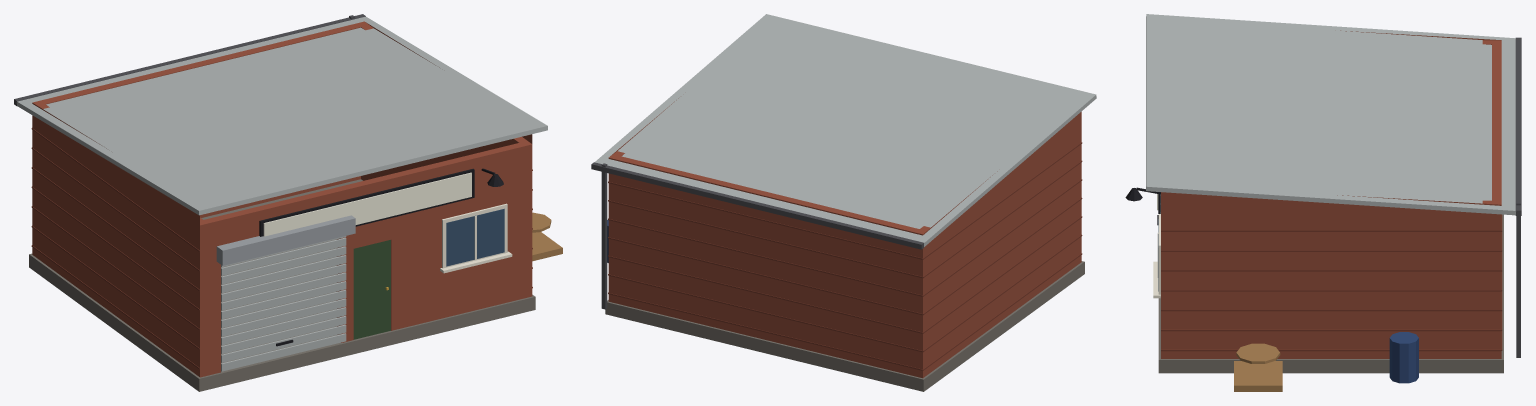
The model's file is depot.yard.glb.
The picture shows the model from 3 angles, left to right: view 1: azimuth 30°, elevation 25°; view 2: azimuth 150°, elevation 25°; view 3: azimuth 270°, elevation 25°; orthographic projection. The views are drawn at different scales.
Visible parts, largest first — view 1: roof, walls-side-1, pier-r, plinth, sign, pier-l, door, walls-back, roller-drum, window-glass, over-roller, over-door (+19 smaller); view 2: roof, walls-back, walls-side-1, plinth, gutter, downpipe, course-b0, course-b1, course-b2, course-b4, course-b5, course-b6 (+2 smaller); view 3: roof, walls-side1, plinth, walls-back, roof-end1, pier-r, oil-drum, pallet, gutter, course-s11, course-s01, reel-l (+6 smaller).
Boxes of the visible parts, <box> form: roof: <box>16,16,547,215</box>; walls-side-1: <box>37,104,203,373</box>; pier-r: <box>387,141,532,330</box>; plinth: <box>29,179,535,391</box>; sign: <box>263,172,471,236</box>; pier-l: <box>195,217,220,377</box>; door: <box>353,240,390,339</box>; walls-back: <box>32,21,368,257</box>; roller-drum: <box>216,215,355,265</box>; window-glass: <box>446,208,504,266</box>; over-roller: <box>215,187,347,245</box>; over-door: <box>349,175,391,248</box>; roof: <box>595,14,1096,246</box>; walls-back: <box>608,154,927,378</box>; walls-side-1: <box>920,122,1077,374</box>; plinth: <box>605,261,1084,391</box>; gutter: <box>591,162,923,249</box>; downpipe: <box>601,163,607,309</box>; course-b0: <box>608,293,922,370</box>; course-b1: <box>608,274,922,352</box>; course-b2: <box>608,256,922,333</box>; course-b4: <box>608,219,922,296</box>; course-b5: <box>608,200,922,278</box>; course-b6: <box>608,182,922,259</box>; roof: <box>1146,14,1515,215</box>; walls-side1: <box>1170,200,1491,358</box>; plinth: <box>1158,214,1503,373</box>; walls-back: <box>1492,40,1501,358</box>; roof-end1: <box>1161,192,1497,204</box>; pier-r: <box>1161,204,1170,358</box>; oil-drum: <box>1389,332,1418,383</box>; pallet: <box>1234,361,1282,391</box>; gutter: <box>1515,37,1521,215</box>; course-s11: <box>1161,329,1501,331</box>; course-s01: <box>1161,349,1501,351</box>; reel-l: <box>1236,343,1280,363</box>.
Bounding box in the file's own units: 9.8 × 4.3 × 8.14.
